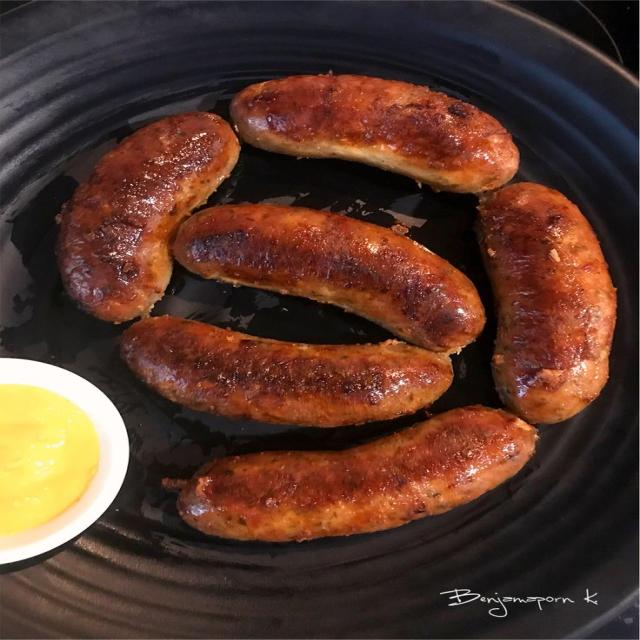sausage: (164, 406, 537, 542), (174, 205, 485, 352), (57, 113, 239, 322), (121, 316, 452, 426), (231, 75, 519, 192), (477, 183, 616, 422)
